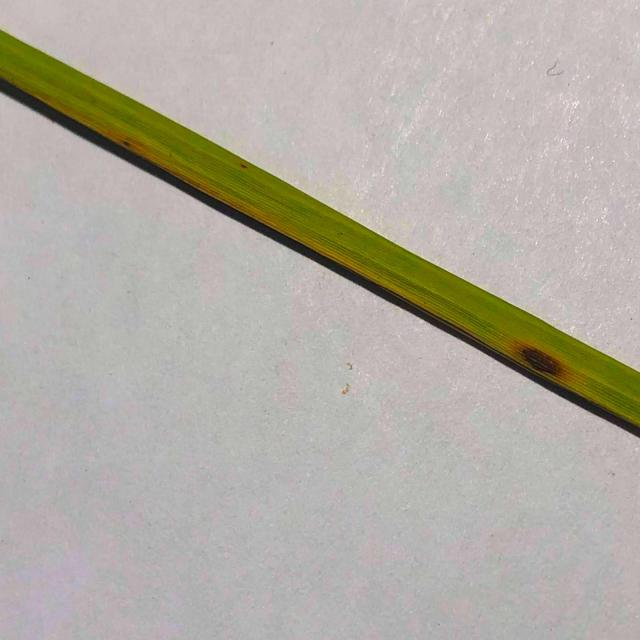Leaf blast: (3, 17, 640, 449)
